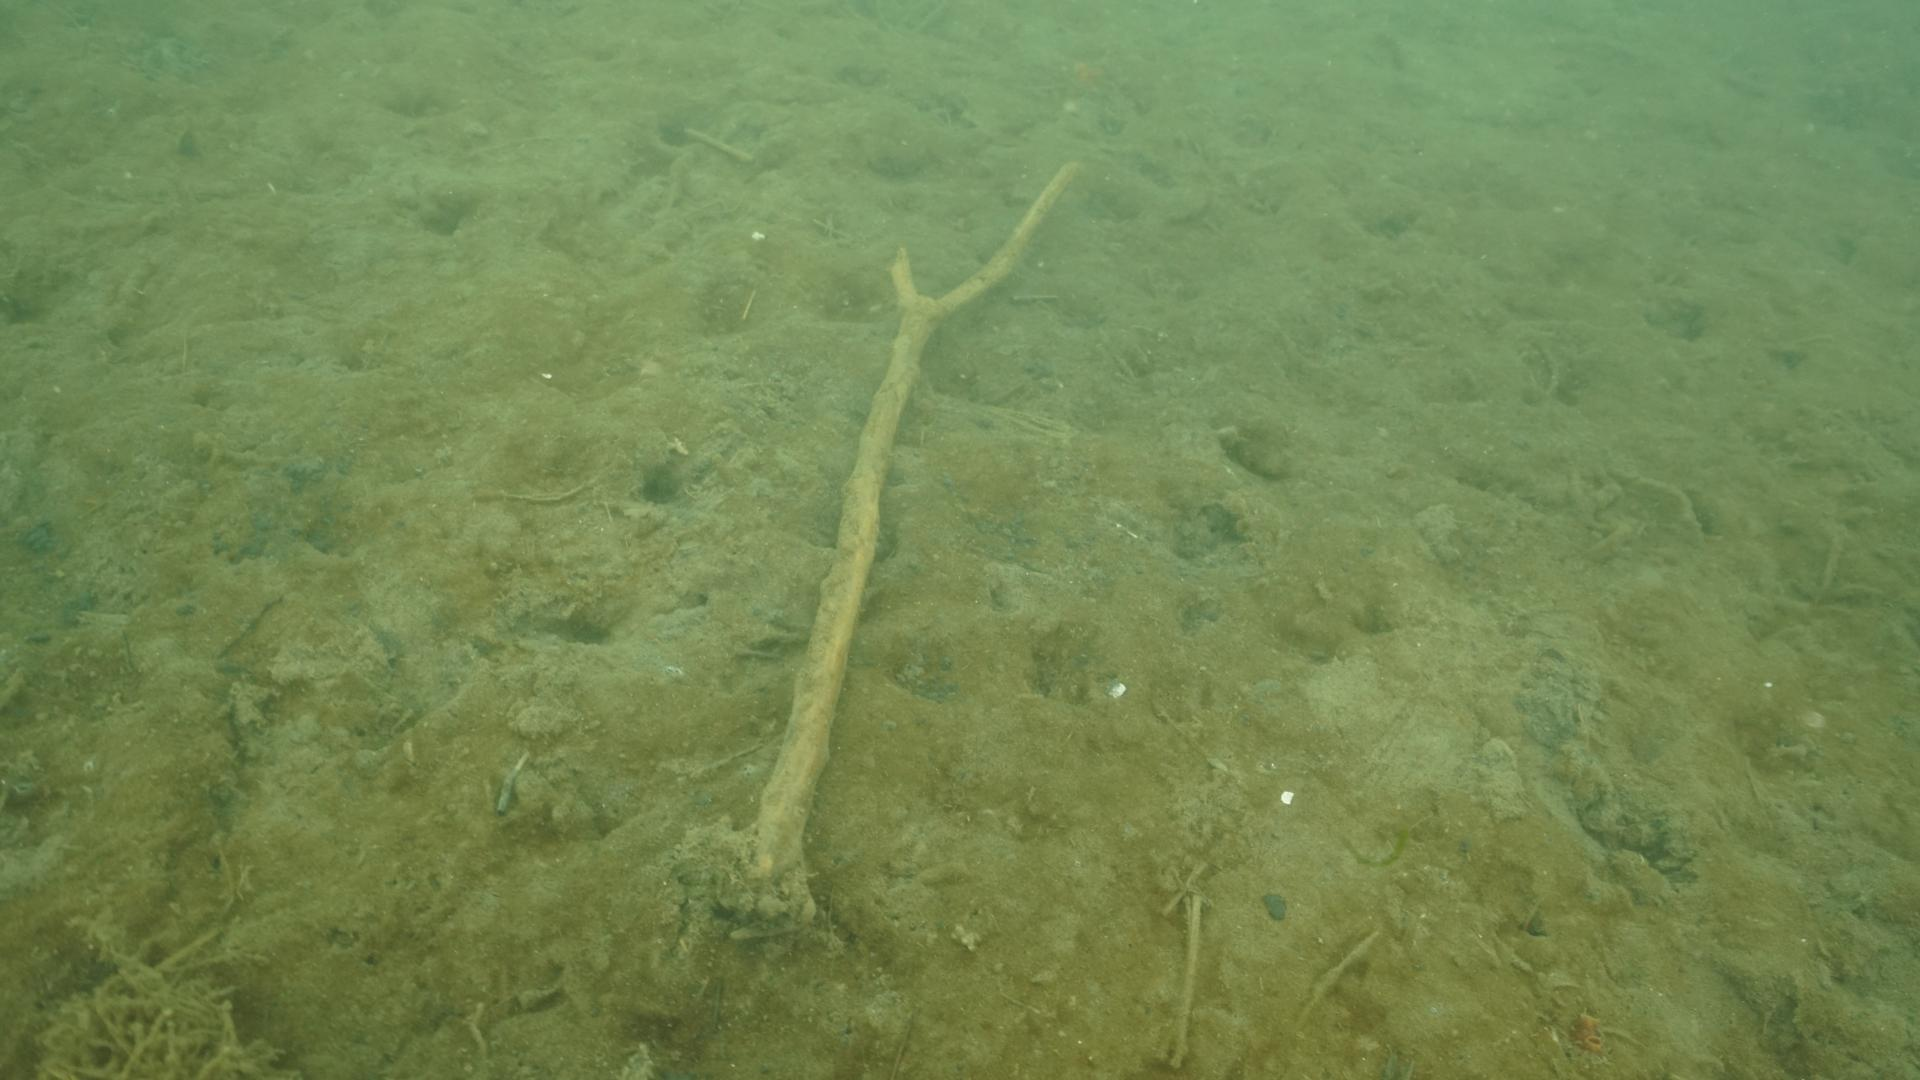wood: (727, 160, 1076, 934)
